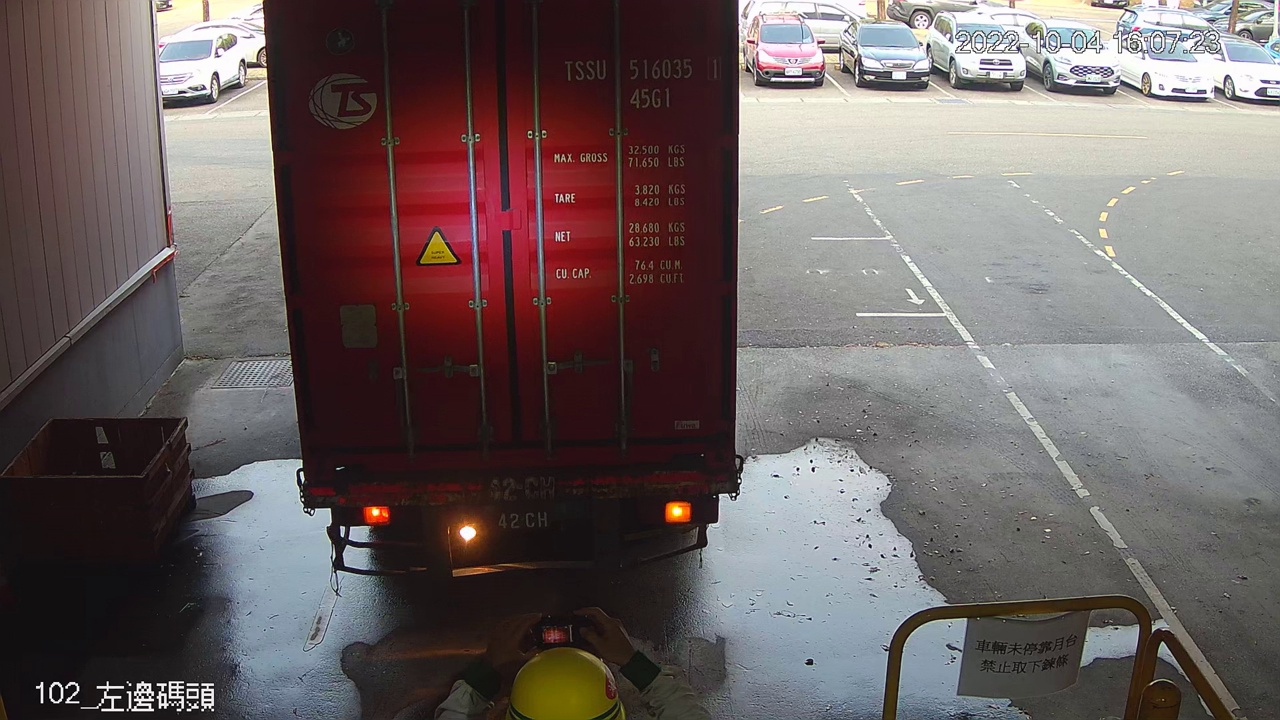container: (556, 52, 731, 115)
